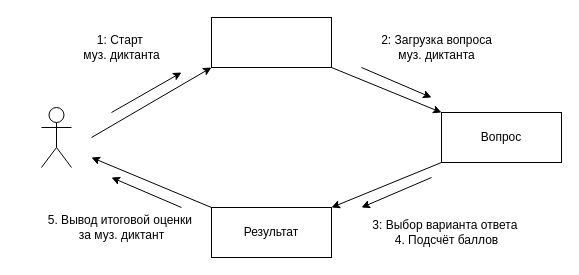
The diagram is 579 pixels wide and 275 high, and some of its shapes have lost their labels. Here are the shapes that lost their labels. From the top down, the centre of each, then its label:
At point (271, 42): "Музыкальный диктант".
At point (56, 137): "Пользователь".
